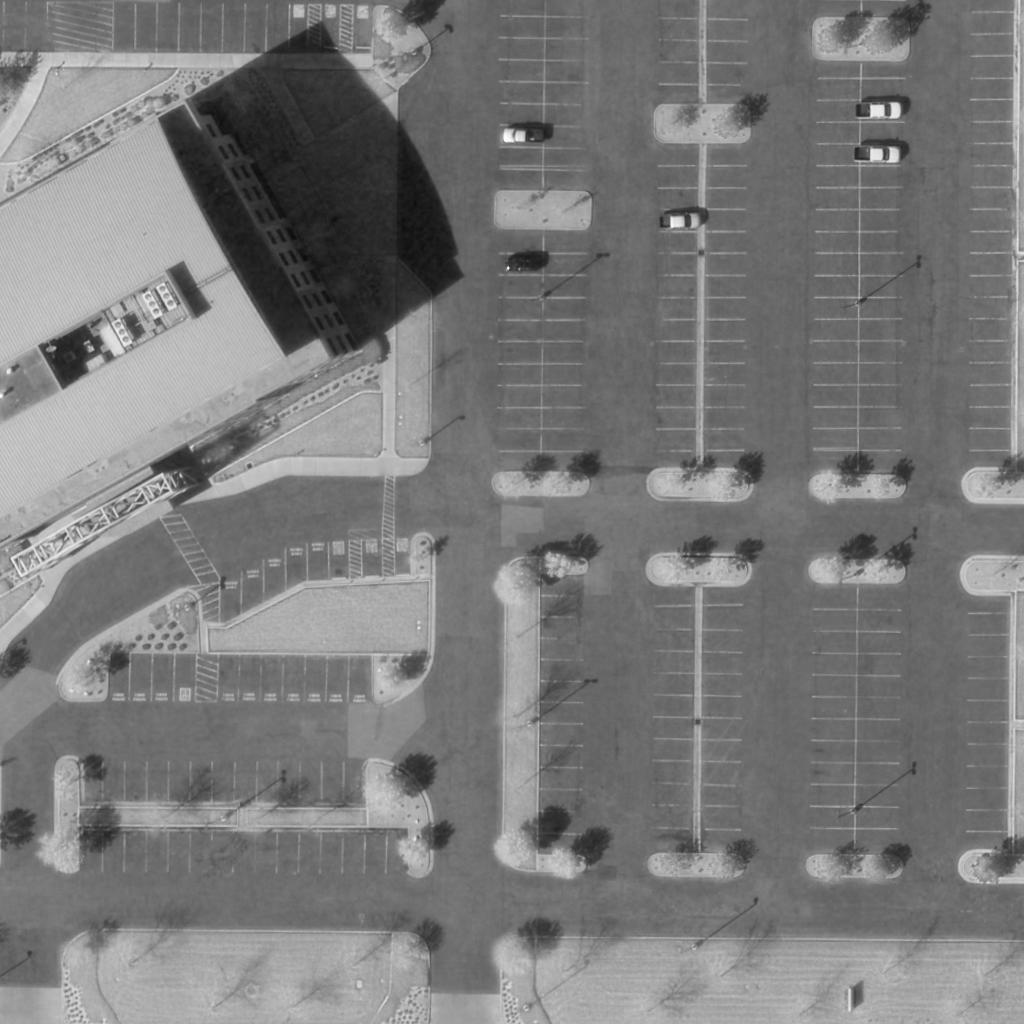vehicle: (854, 146, 904, 164), (501, 127, 547, 145), (657, 213, 703, 231), (853, 103, 903, 119), (503, 256, 541, 272)
